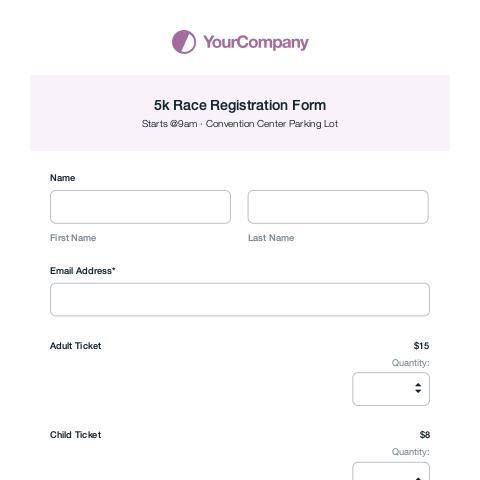dropdown: (352, 374, 432, 406)
input: (50, 283, 431, 320), (51, 188, 234, 225), (248, 189, 431, 225)
label: (47, 427, 103, 443), (46, 264, 119, 276), (45, 342, 107, 356), (247, 231, 301, 247), (51, 232, 100, 245), (385, 357, 432, 370), (48, 170, 80, 185), (387, 450, 433, 458)
